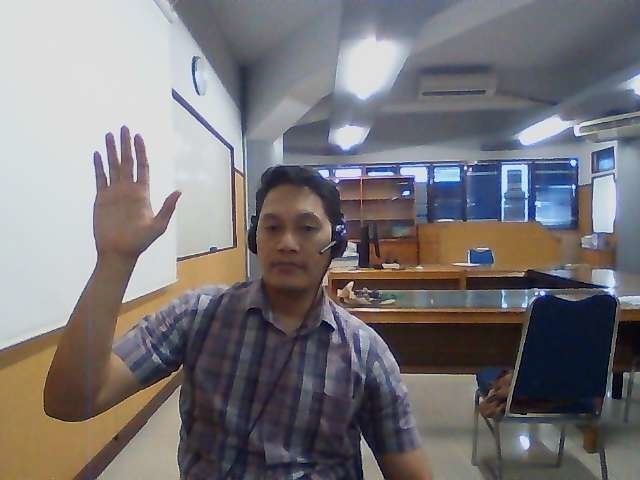Hai: (92, 124, 183, 256)
